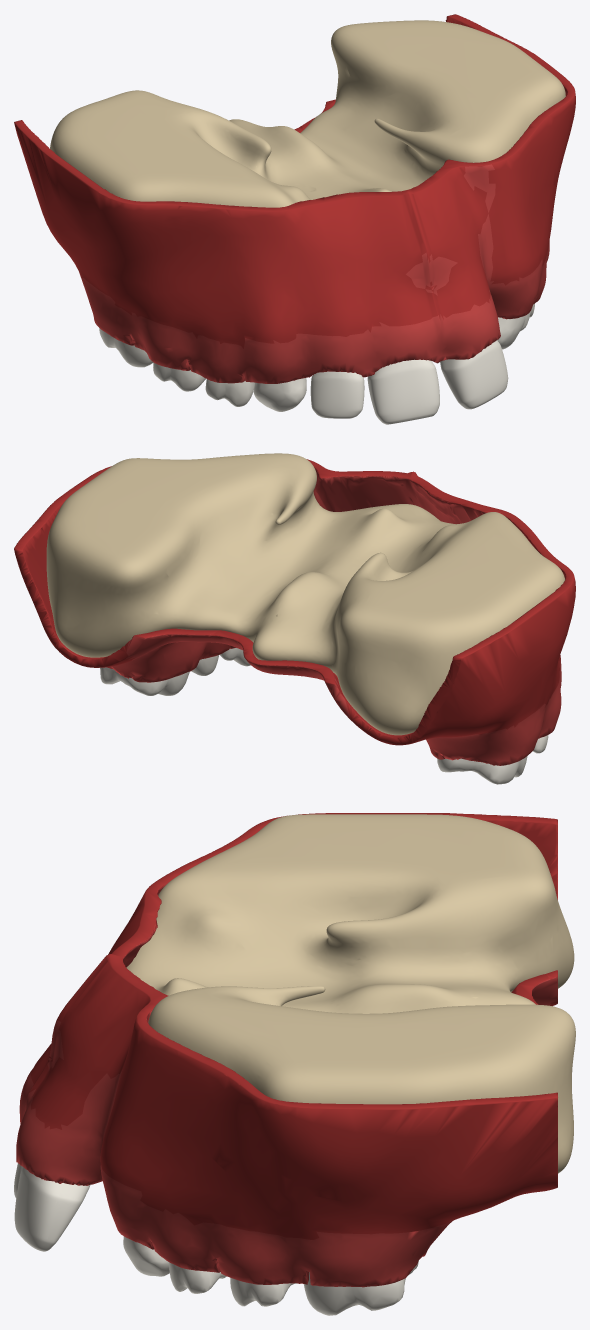
Rendered from abg-1-pre-op.glb.
The picture shows the model from 3 angles, top to bottom: view 1: azimuth 30°, elevation 25°; view 2: azimuth 150°, elevation 25°; view 3: azimuth 270°, elevation 25°; orthographic projection. The views are drawn at different scales.
Parts seen in each view (by area): view 1: soft-tissue, bone, teeth; view 2: bone, soft-tissue, teeth; view 3: bone, soft-tissue, teeth.
Boxes of the visible parts, box(x1,y1,x2,y2) form: soft-tissue: box(14, 14, 575, 383); bone: box(50, 20, 565, 207); teeth: box(99, 303, 534, 424); bone: box(46, 453, 565, 735); soft-tissue: box(14, 459, 575, 765); teeth: box(100, 648, 548, 784); bone: box(126, 814, 575, 1173); soft-tissue: box(16, 813, 557, 1287); teeth: box(14, 1163, 418, 1315).
Size of the model in its own units: 0.1009 by 0.044 by 0.0807.
